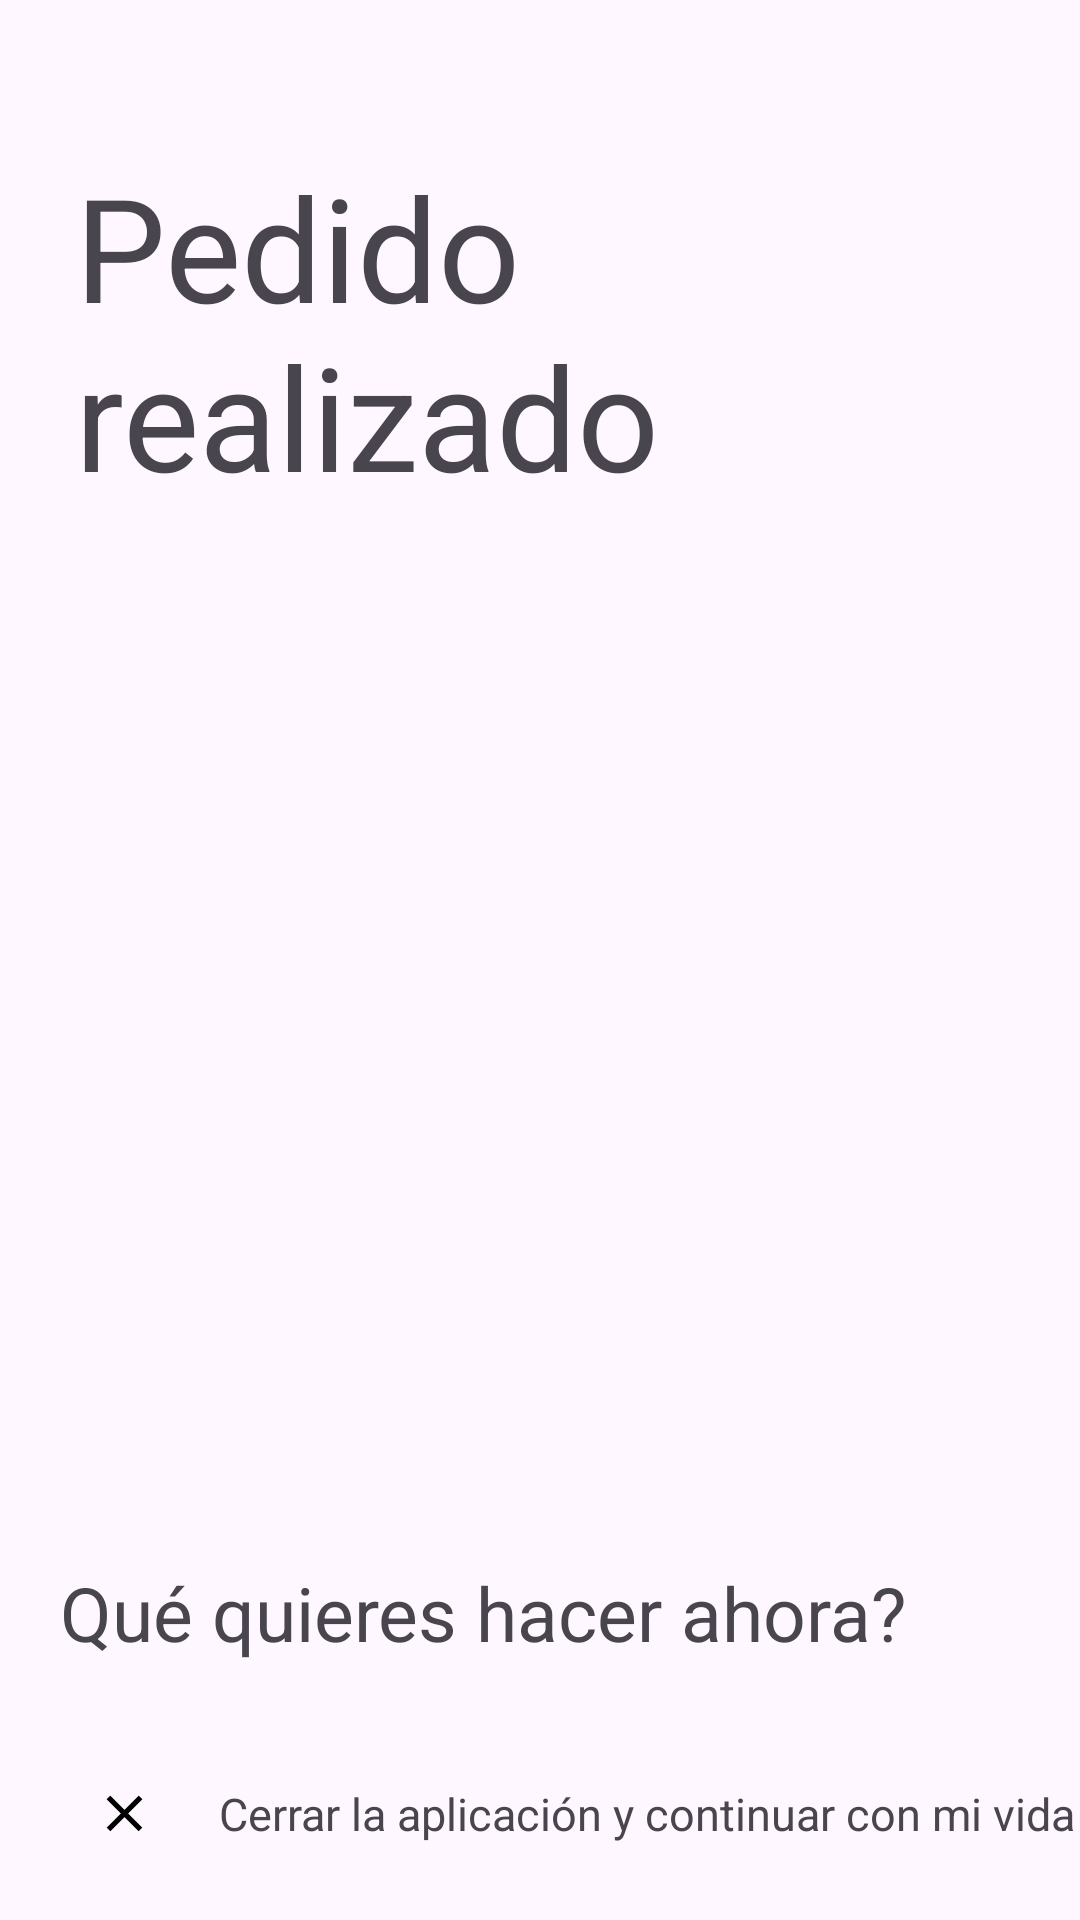

Locate icon controls on the screen. Image size 1080 x 1920, boxes as [x1,y1,x2,y2].
close: [106,1795,143,1831]
